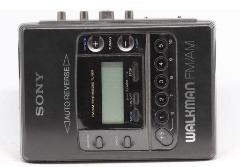electronic: (17, 10, 216, 162)
